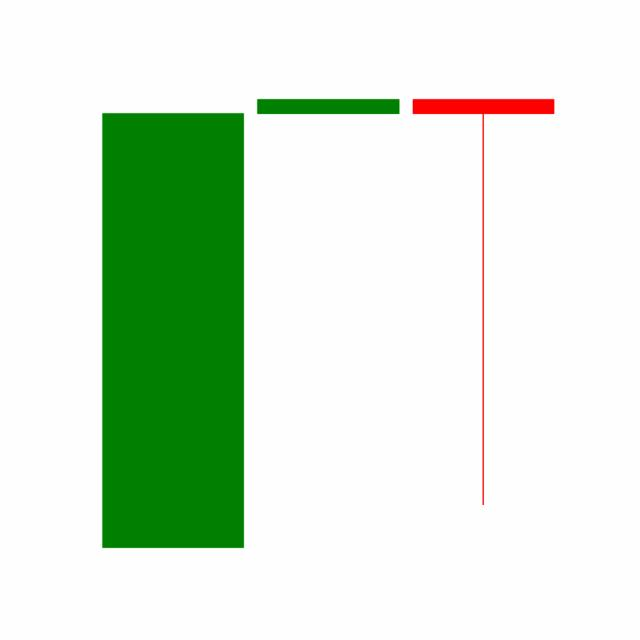Hammer: (405, 94, 561, 510)
